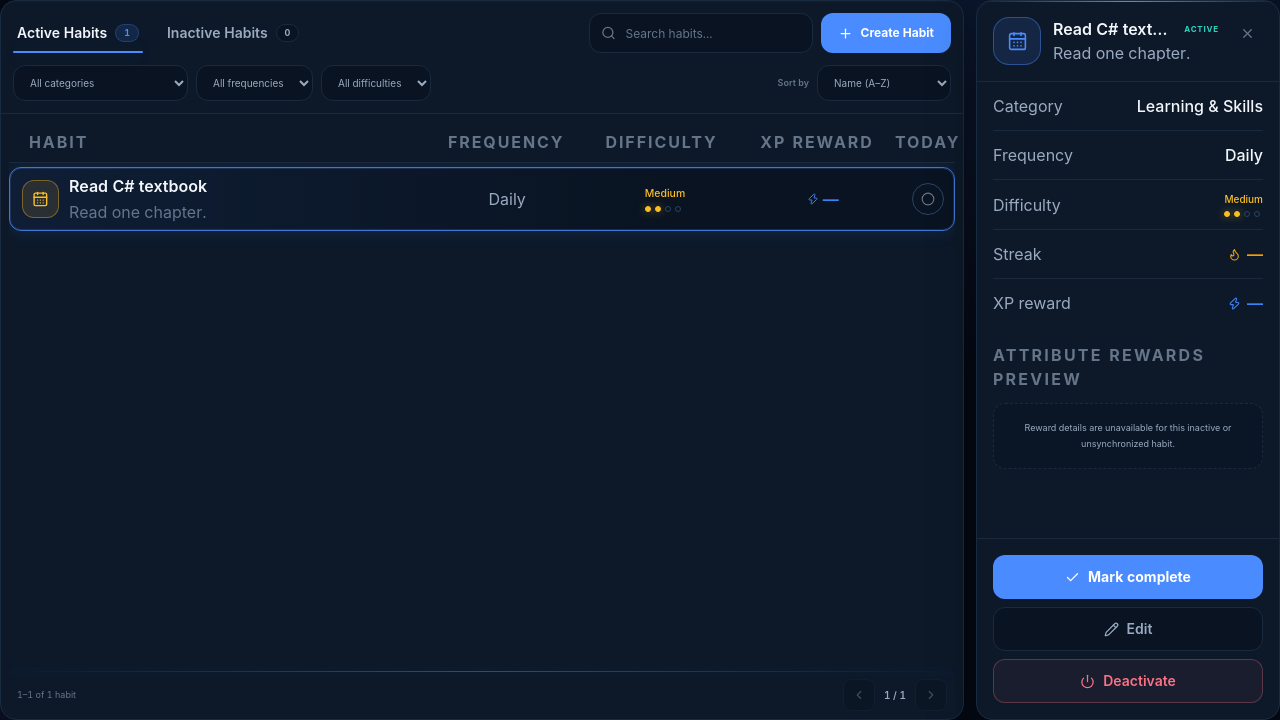
Test case: HabitList › updates a habit and displays its scheduled rule changes
The image size is (1280, 720).
Expected: the 2nd heading "Read C# textbook" is shown, 69,174 -> 207,198
Click the button "Edit" at (1128, 629), box 993,607 -> 1263,651
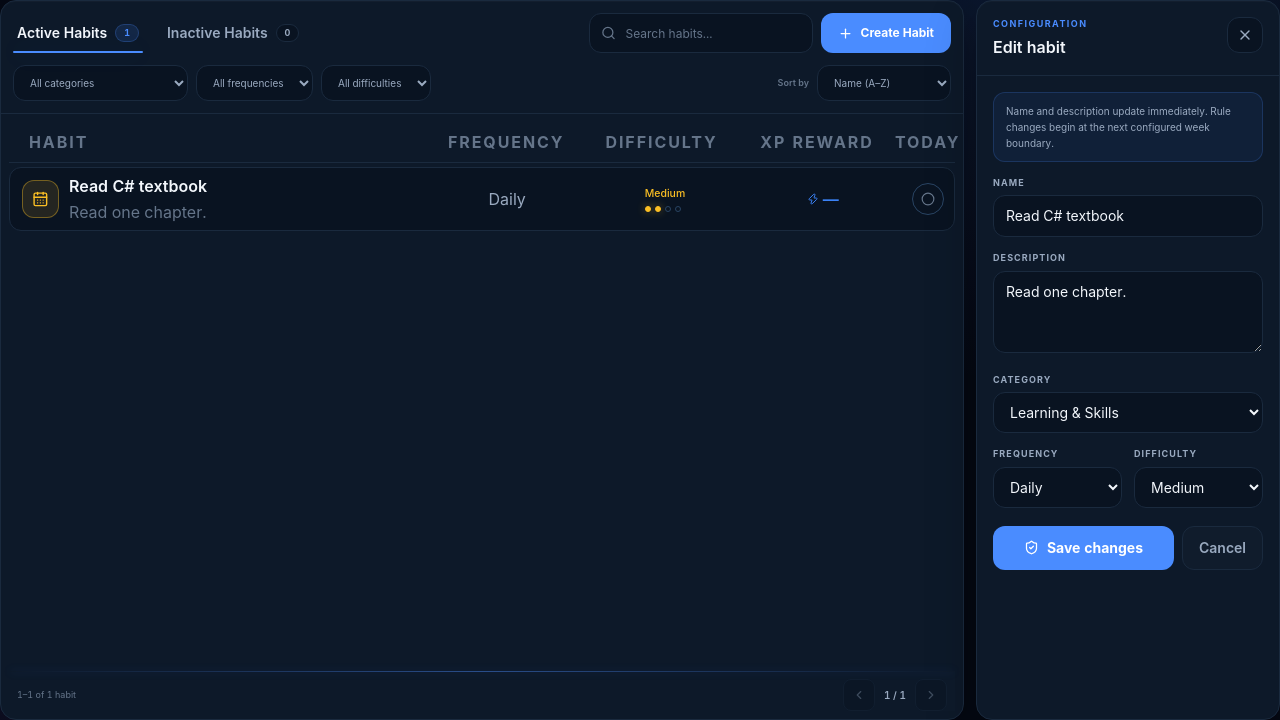
Replace the text in the field labelled "Name" with "Read TypeScript book" at (1128, 216), box 993,195 -> 1263,237
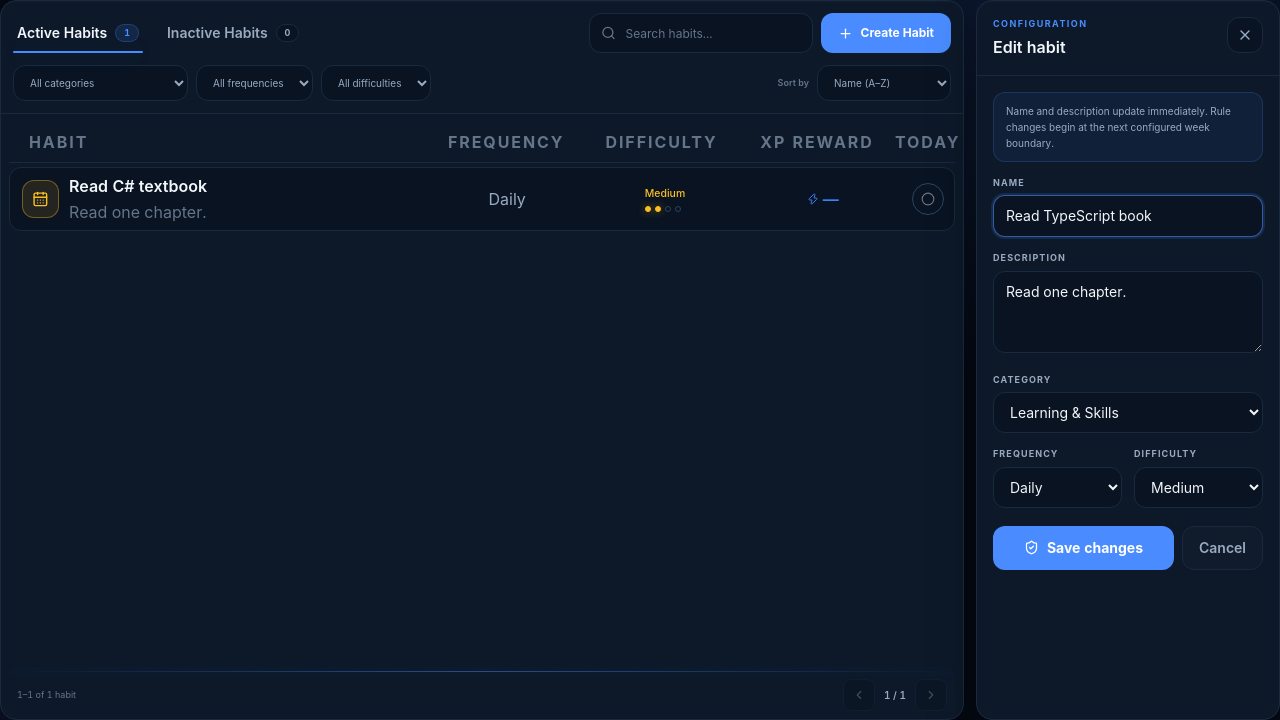
Select "Hard" in the dropdown labelled "Difficulty" at (1198, 487), box 1134,466 -> 1263,508
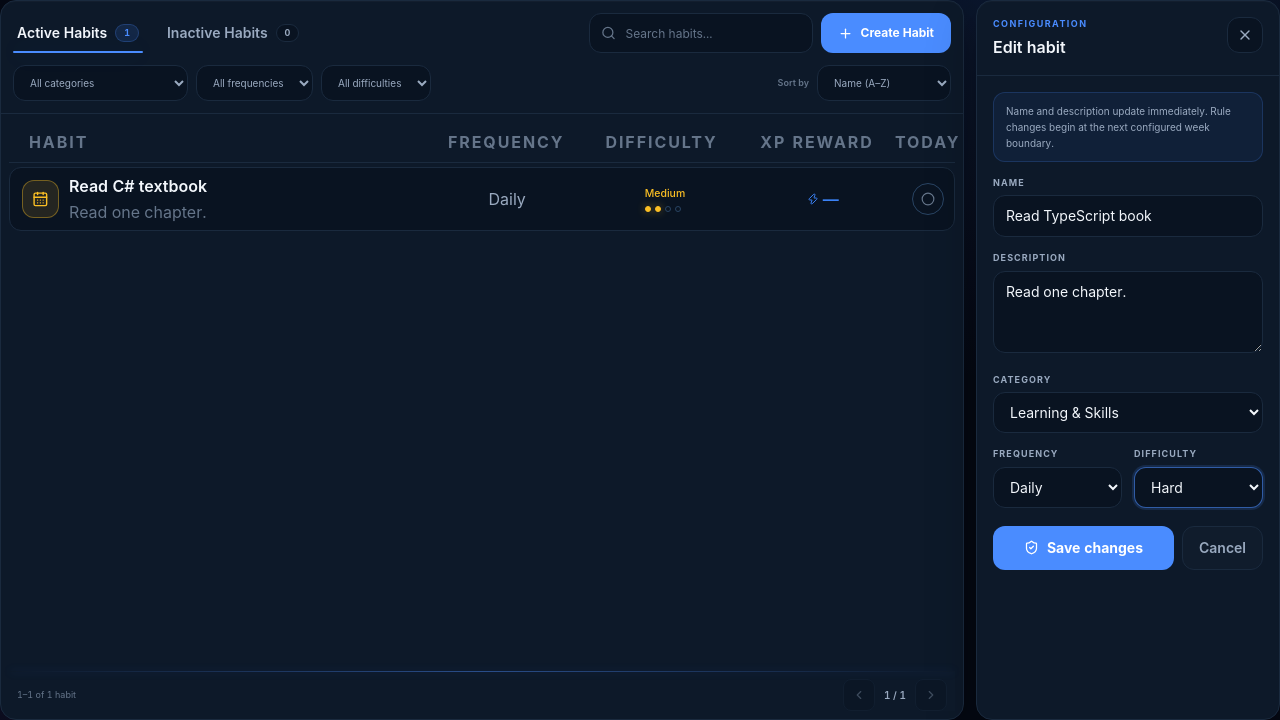
Click the button "Save changes" at (1084, 548), box 993,526 -> 1174,570
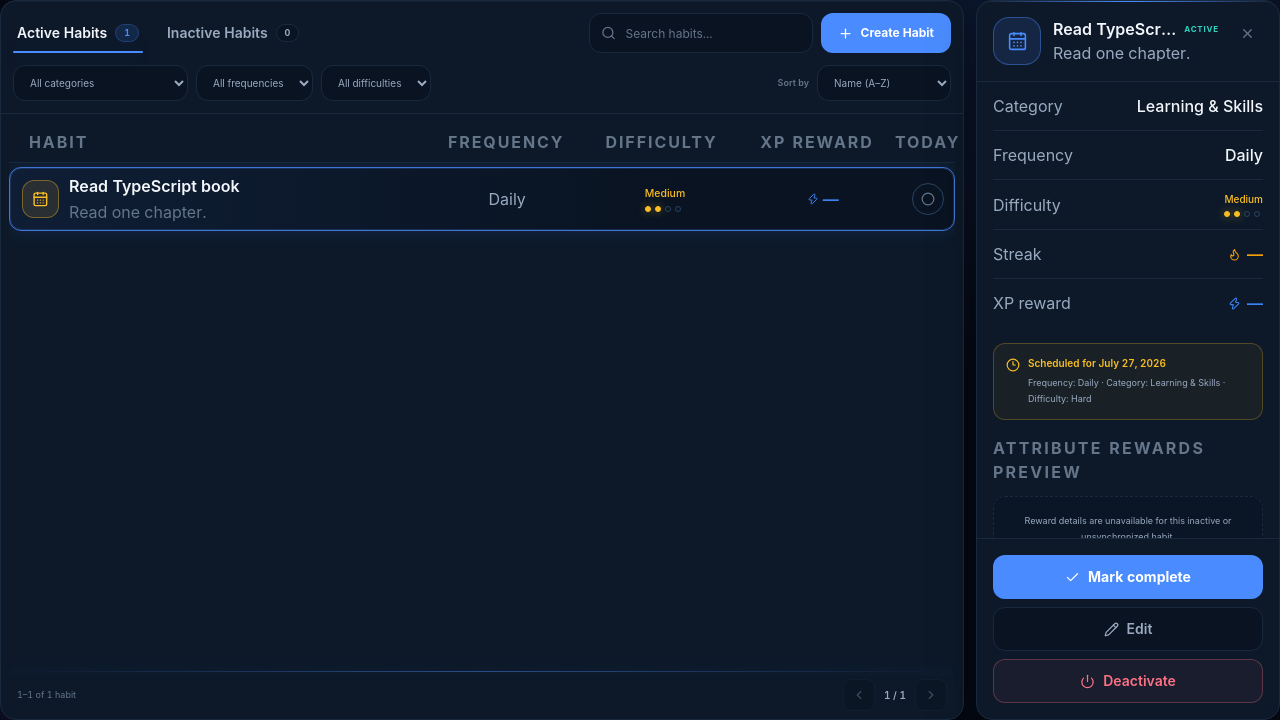
Expected: the 2nd heading "Read TypeScript book" is shown, 69,174 -> 240,198
Expected: the 1st heading "Read TypeScript book" is shown, 1053,17 -> 1176,41
Expected: the element named "Scheduled changes for Read TypeScript book" shows "Scheduled for July 27, 2026", 993,343 -> 1263,420
